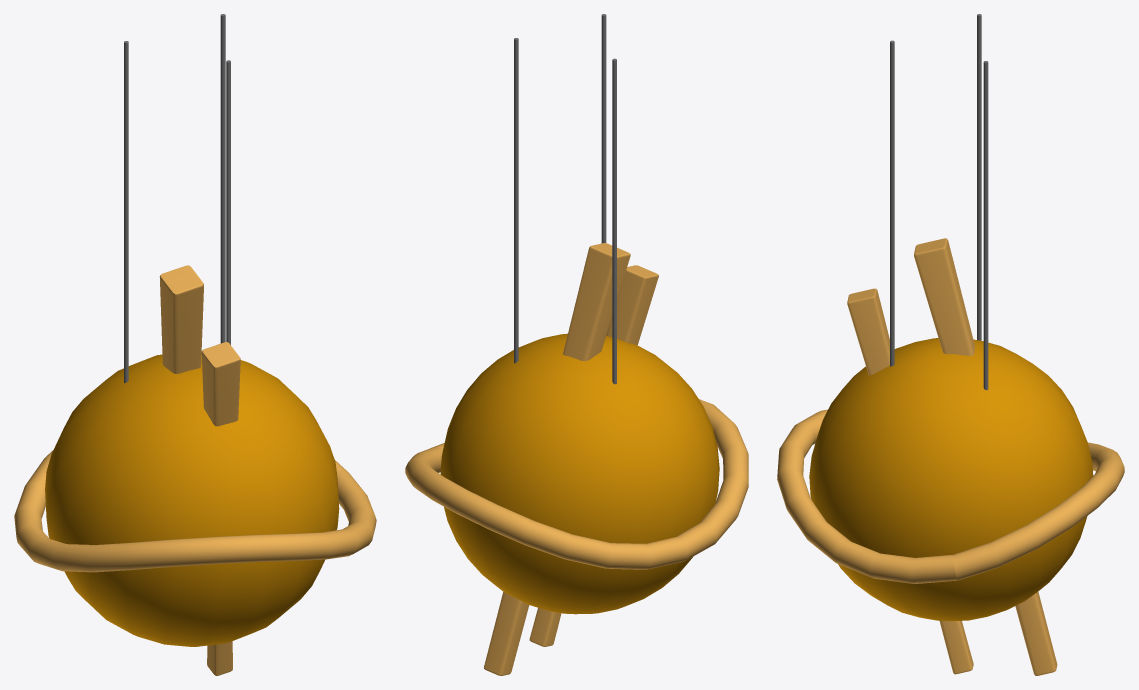
Rendered from Planete_deco.fbx.
3 views of the same model, side by side, from view 1: azimuth 30°, elevation 25°; view 2: azimuth 150°, elevation 25°; view 3: azimuth 270°, elevation 25° (orthographic). The views are drawn at different scales.
Parts seen in each view (by area): view 1: Planete; view 2: Planete; view 3: Planete.
Part boxes in pixels (x1,y1,x2,y2): Planete: (14,14,376,675); Planete: (405,14,748,675); Planete: (777,14,1124,675).
Bounding box in the file's own units: 791 × 1552 × 792.
